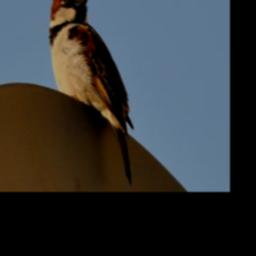Swallow: (46, 0, 133, 185)
